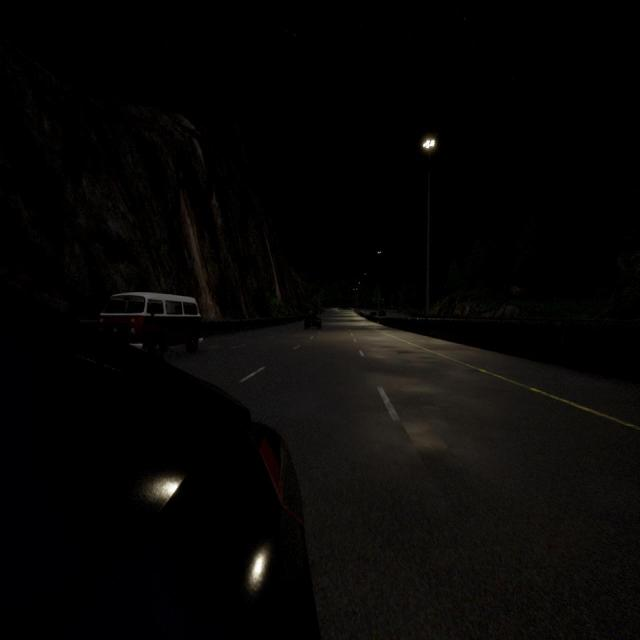Vehicle: (0, 332, 294, 640), (100, 292, 202, 353), (303, 312, 322, 330)
